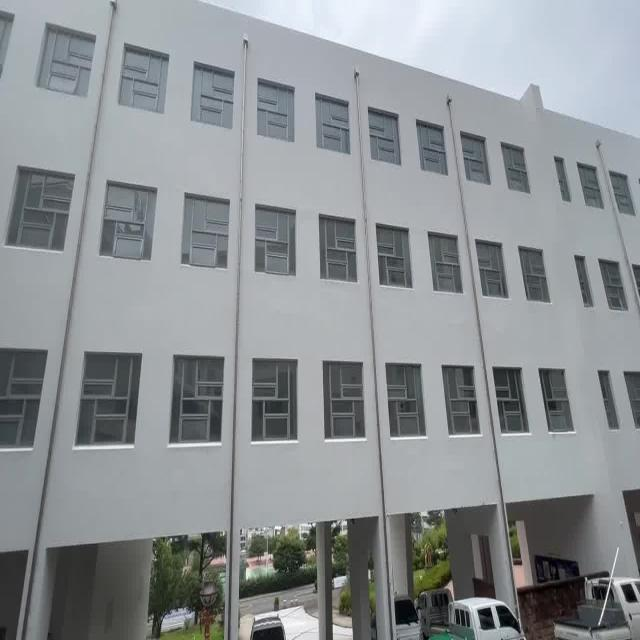building: (7, 0, 632, 490)
